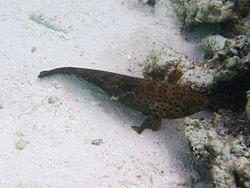Serranidae -Groupers-: (35, 62, 207, 135)
